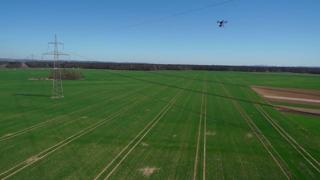UAV: (217, 20, 228, 28)
